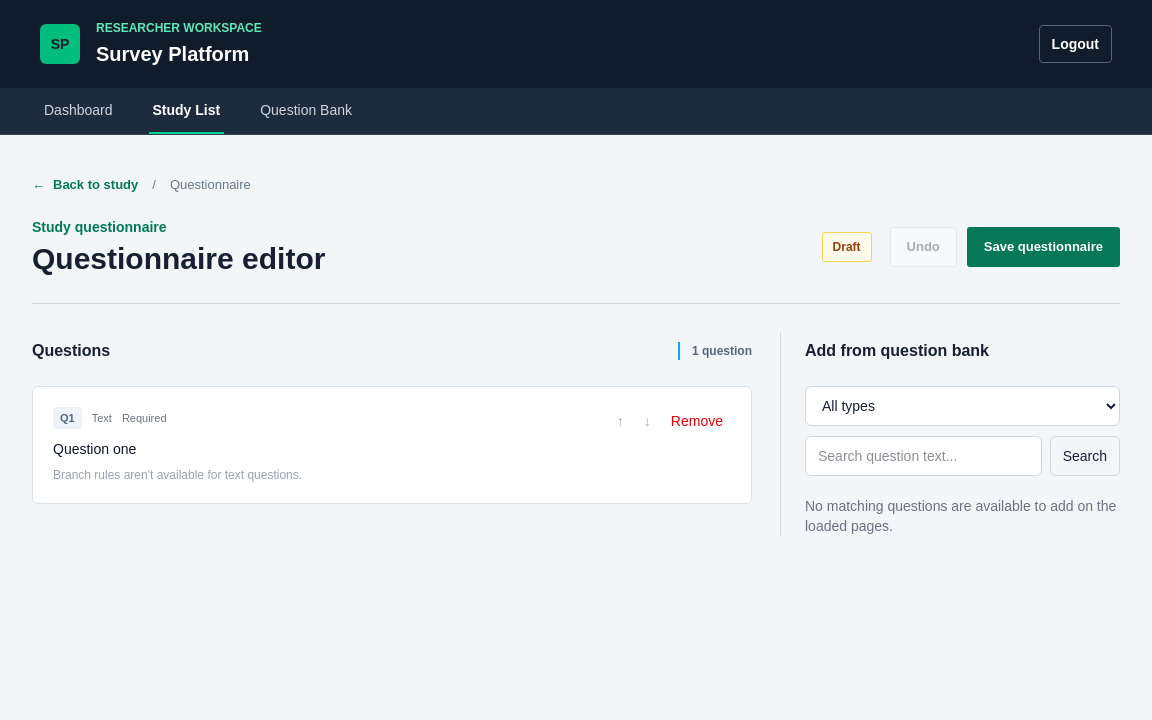
Test case: M4 questionnaire editor browser behavior › shows structured backend validation coordinates without losing the local editor
Expected: the text "Question one" is shown, left=53, top=441, right=136, bottom=457
Click the button "Save questionnaire" at (1043, 246), box left=967, top=226, right=1120, bottom=266
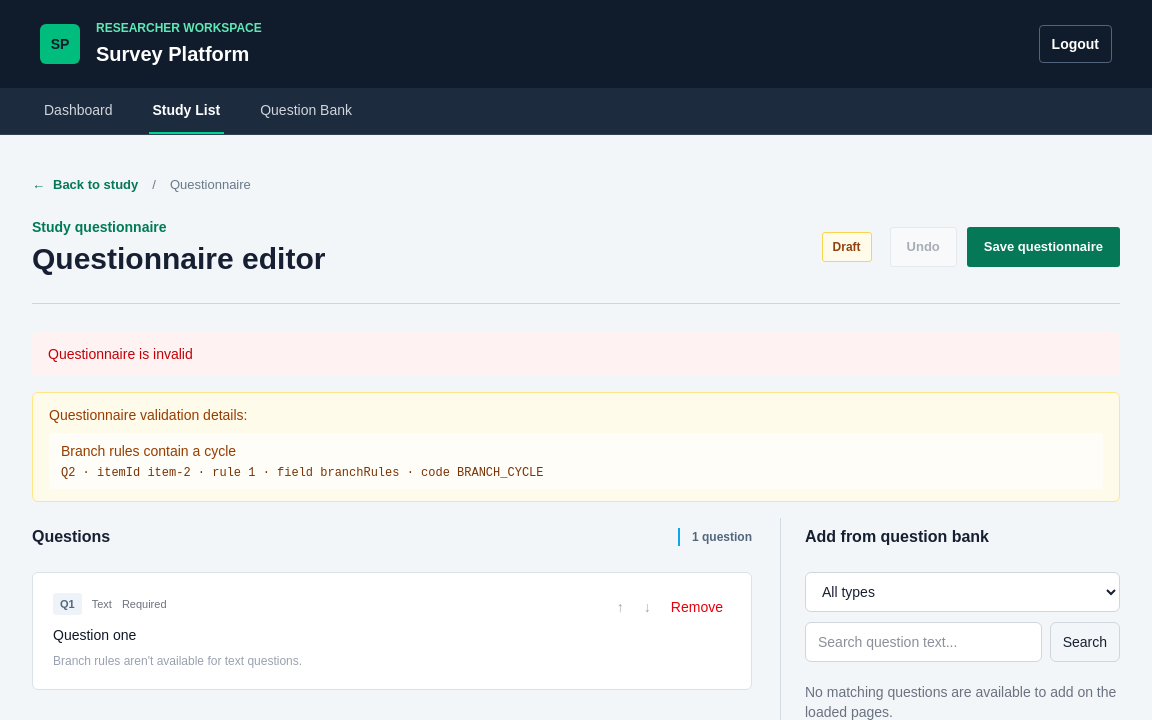
Now the message reads "Questionnaire is invalid", box left=48, top=346, right=193, bottom=362
Now the text "Branch rules contain a cycle" is shown, box left=61, top=442, right=236, bottom=458
Now the text "Q2 · itemId item-2 · rule 1 · field branchRules · code BRANCH_CYCLE" is shown, box left=61, top=466, right=544, bottom=480
